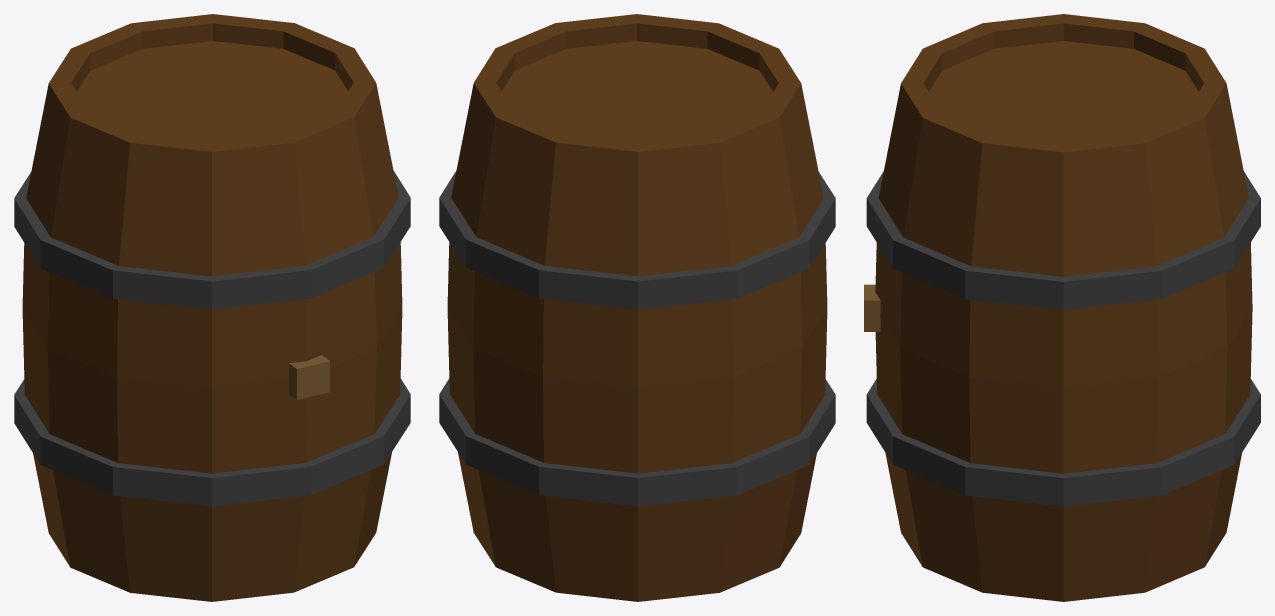
Rendered from WoodBarrel_Curved.fbx.
3 views of the same model, side by side, from view 1: azimuth 30°, elevation 25°; view 2: azimuth 150°, elevation 25°; view 3: azimuth 270°, elevation 25° (orthographic).
Parts seen in each view (by area): view 1: WoodBarrel_Curved; view 2: WoodBarrel_Curved; view 3: WoodBarrel_Curved.
Part boxes in pixels (left/top/right/bottom): WoodBarrel_Curved: left=14, top=14, right=410, bottom=601; WoodBarrel_Curved: left=439, top=14, right=835, bottom=601; WoodBarrel_Curved: left=864, top=14, right=1260, bottom=601.
Size of the model in its own units: 124 by 155 by 124.
